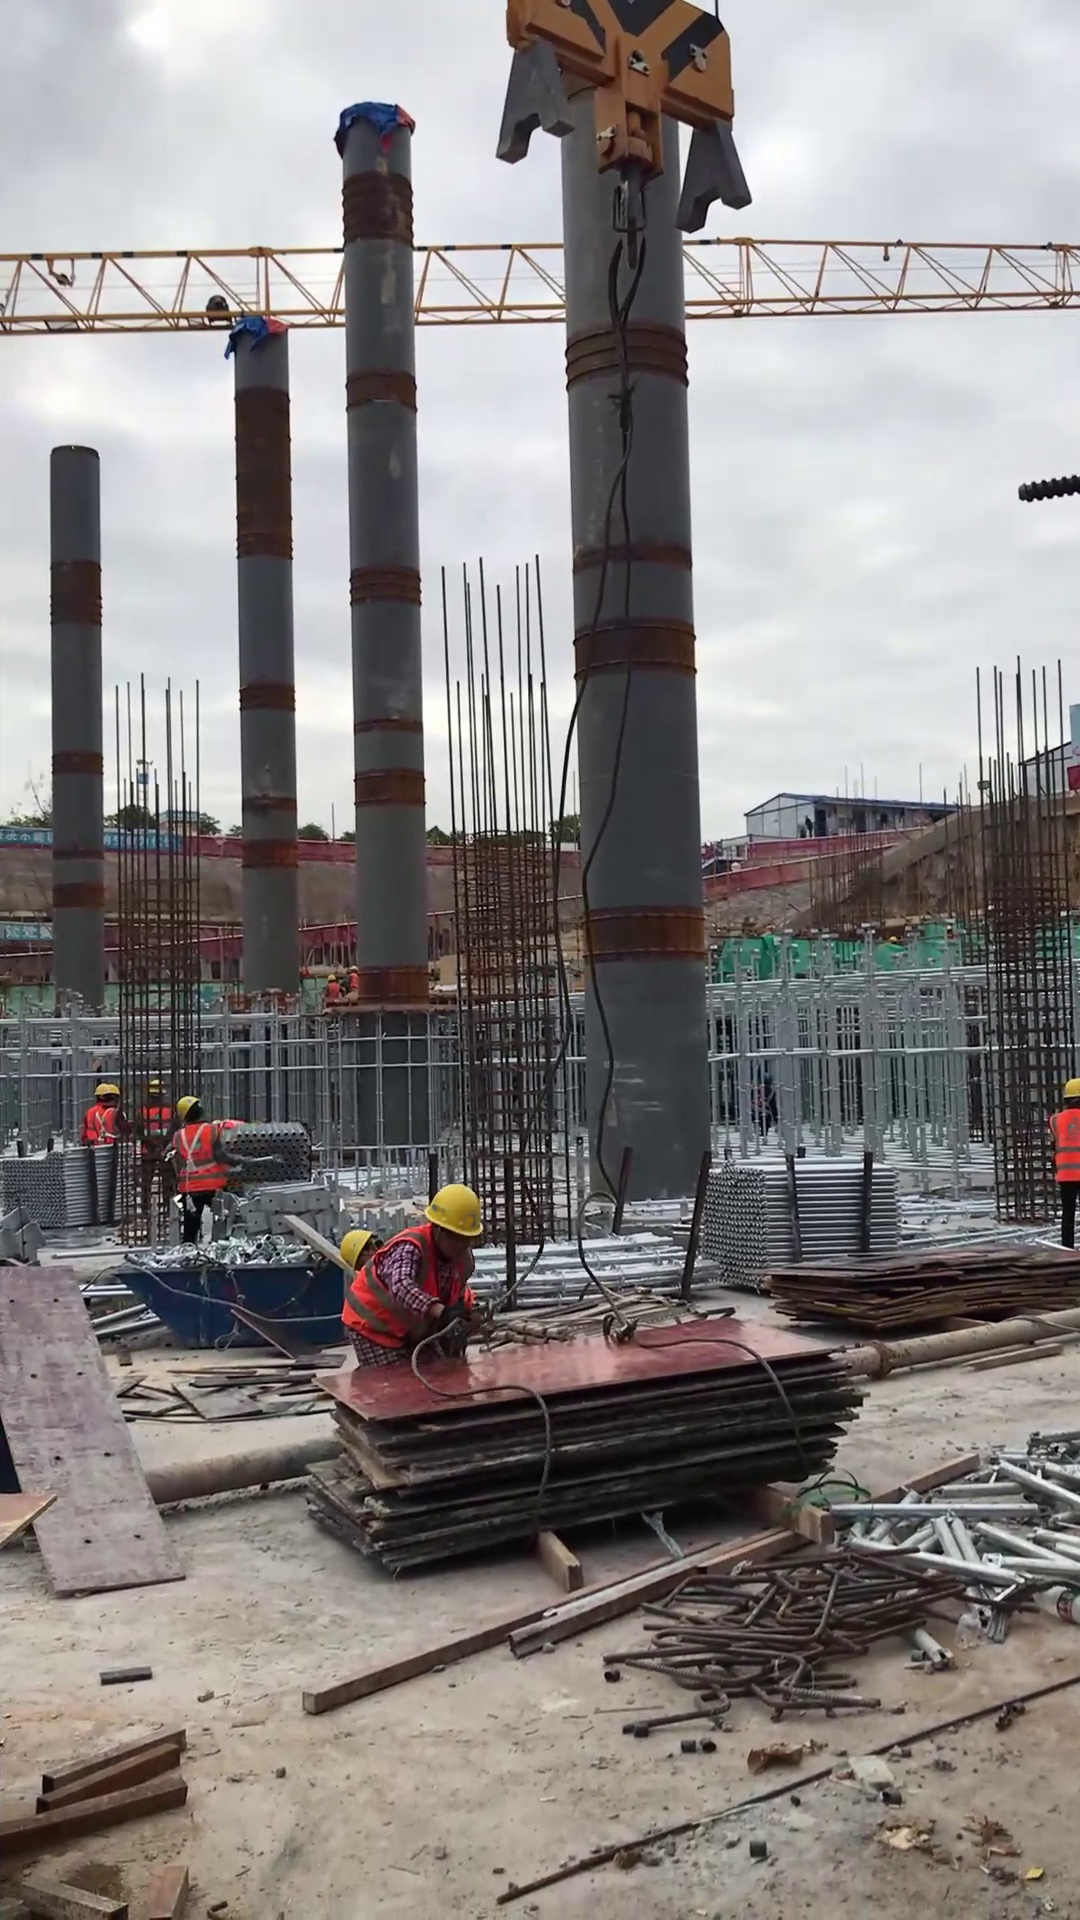board: (287, 1298, 880, 1587), (752, 1220, 1080, 1360)
helmet: (417, 1179, 486, 1242), (336, 1228, 374, 1275), (175, 1090, 203, 1126), (86, 1081, 121, 1103), (1055, 1078, 1080, 1103)
hook: (479, 1, 768, 334)
hopper: (118, 1246, 330, 1360)
person: (328, 1171, 499, 1388), (161, 1088, 243, 1254), (1039, 1072, 1080, 1253), (75, 1076, 128, 1158), (332, 1221, 387, 1282)
scaffold: (683, 1146, 912, 1299), (1, 1147, 139, 1237), (222, 1113, 322, 1188)
vest: (339, 1224, 483, 1353), (168, 1122, 226, 1199), (1047, 1108, 1080, 1187), (82, 1103, 124, 1147)
